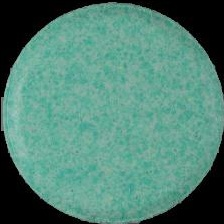0781-1123: (0, 0, 224, 224)
